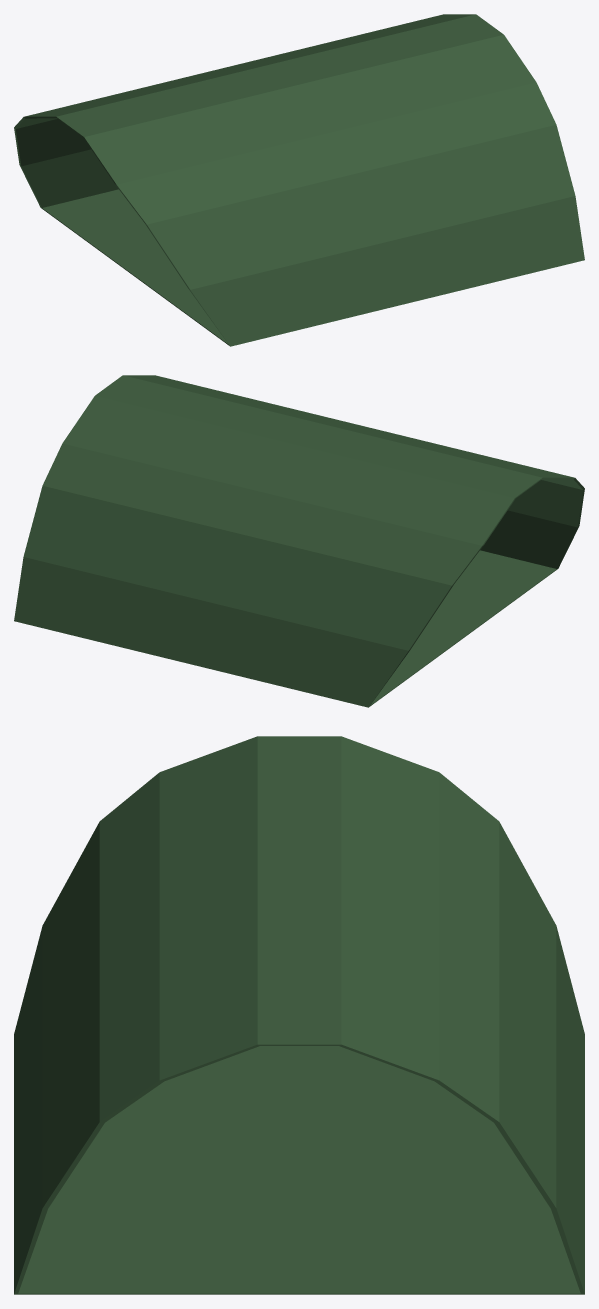
File: ШП1 Соединение ШП5.fbx
The picture shows the model from 3 angles, top to bottom: view 1: azimuth 30°, elevation 25°; view 2: azimuth 150°, elevation 25°; view 3: azimuth 270°, elevation 25°; orthographic projection. The views are drawn at different scales.
Visible parts, largest first — view 1: Cube; view 2: Cube; view 3: Cube.
Boxes of the visible parts, left/top/right/bottom form: Cube: left=14, top=14, right=584, bottom=346; Cube: left=14, top=375, right=584, bottom=707; Cube: left=14, top=736, right=584, bottom=1294.
Size of the model in its own units: 766 by 290 by 600.
